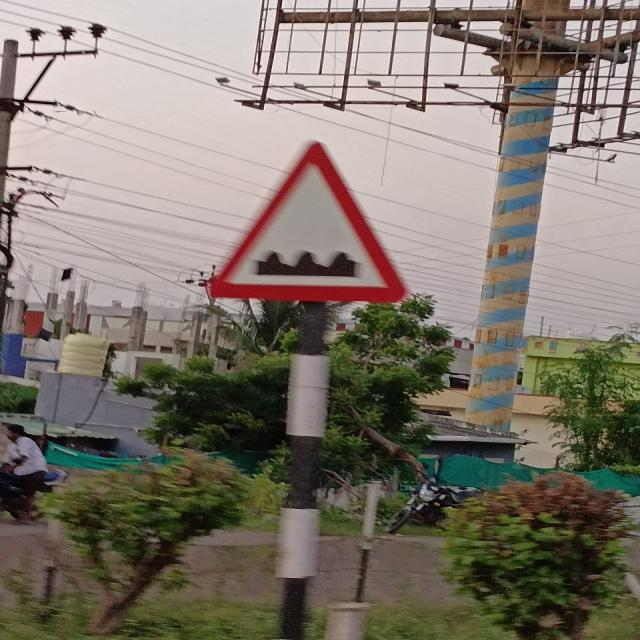Rumble_strip: (200, 142, 422, 302)
